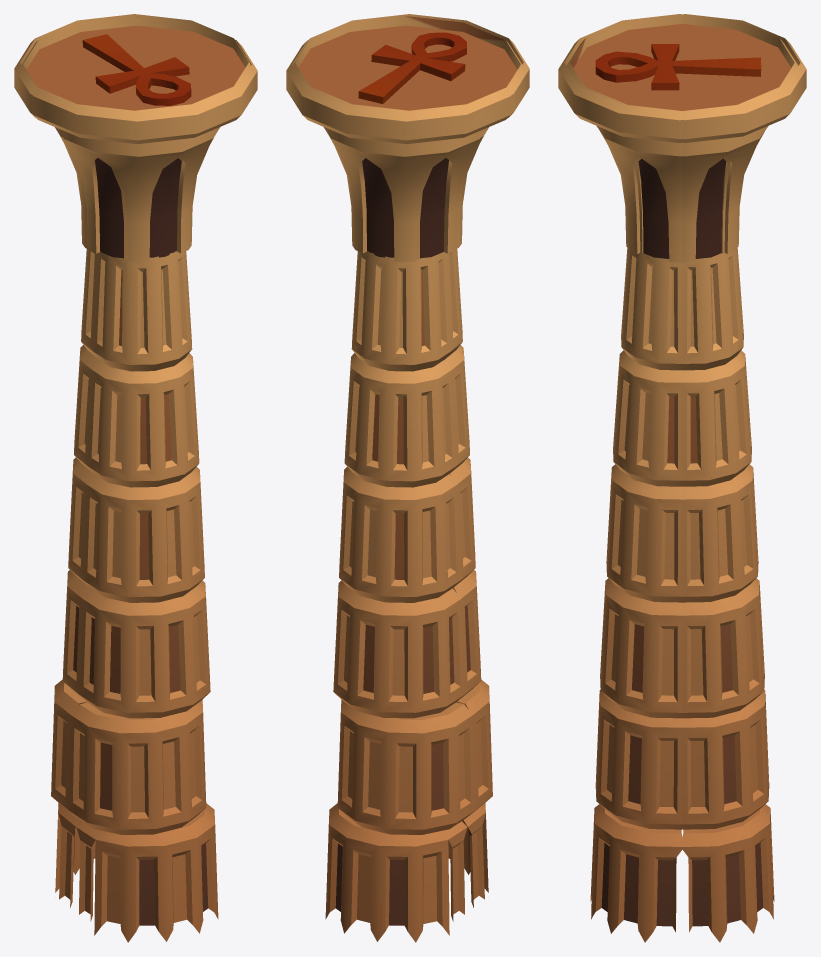
3 views of the same model, side by side, from view 1: azimuth 30°, elevation 25°; view 2: azimuth 150°, elevation 25°; view 3: azimuth 270°, elevation 25° (orthographic).
Parts seen in each view (by area): view 1: diorama.004, diorama.007; view 2: diorama.004, diorama.007; view 3: diorama.004, diorama.007.
Boxes of the visible parts, <box> form: diorama.004: <box>14,14,257,942</box>; diorama.007: <box>82,34,191,105</box>; diorama.004: <box>286,14,529,942</box>; diorama.007: <box>358,32,466,103</box>; diorama.004: <box>558,14,806,942</box>; diorama.007: <box>595,44,761,90</box>.
Size of the model in its own units: 135 by 524 by 139.
